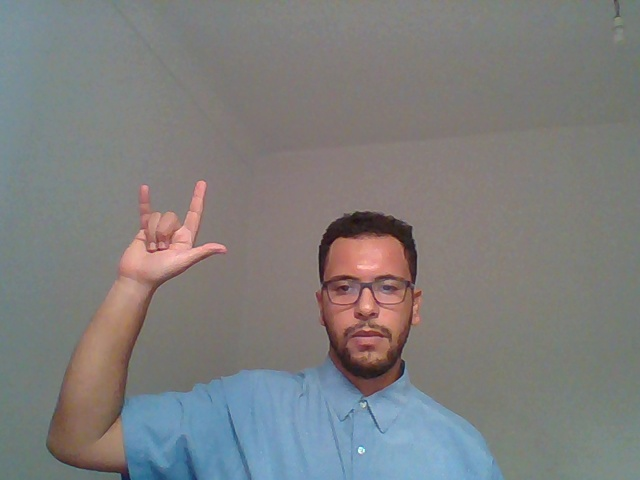iloveyou: (65, 127, 247, 398)
